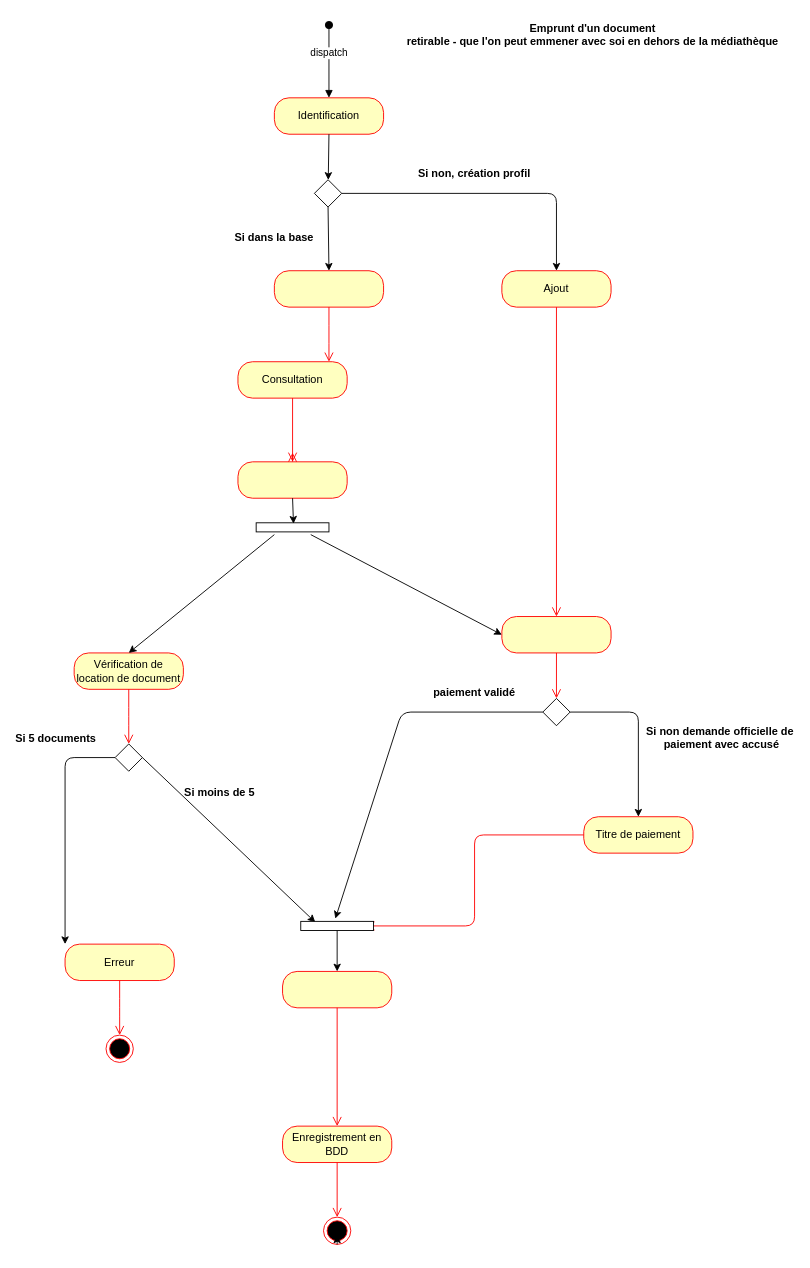
The diagram is 810 pixels wide and 1268 high, and some of its shapes have lost their labels. Each missing label, with the centre of its shape:
"Gestion des clients" goes at pixel 328 288.
"Modification" goes at pixel 292 479.
"Validation" goes at pixel 337 989.
"Vérification paiement" goes at pixel 556 634.
